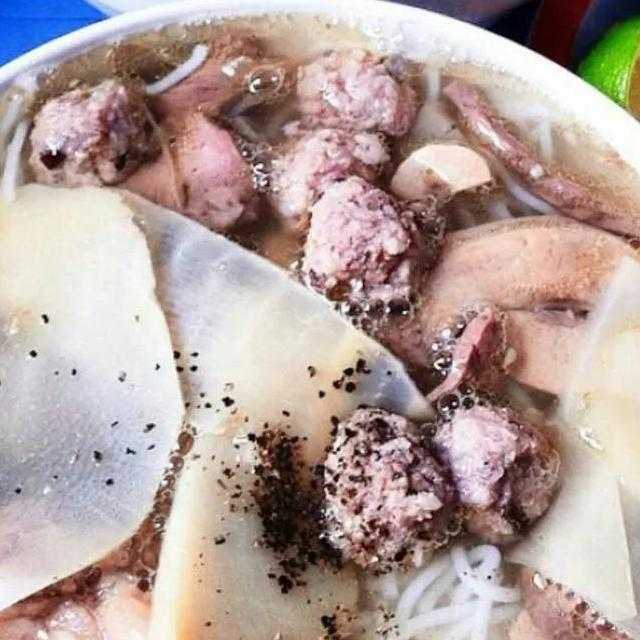bun: (350, 532, 523, 640)
bun moc: (0, 51, 640, 640)
vien moc: (308, 392, 466, 564), (290, 172, 450, 326), (424, 398, 570, 552), (15, 73, 158, 194), (267, 125, 408, 232), (284, 40, 424, 142)
